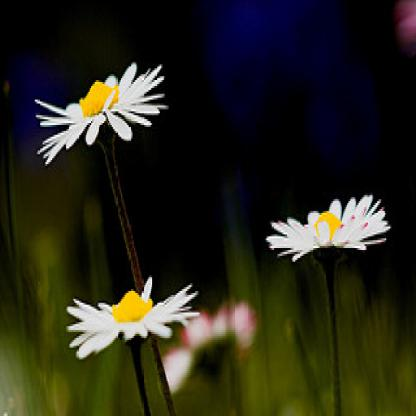ASTER: (13, 44, 403, 362)
